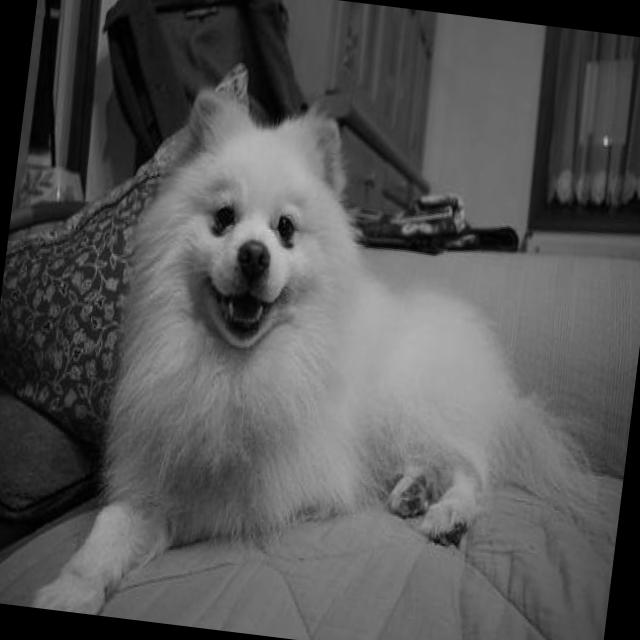laying down: (27, 67, 640, 640)
